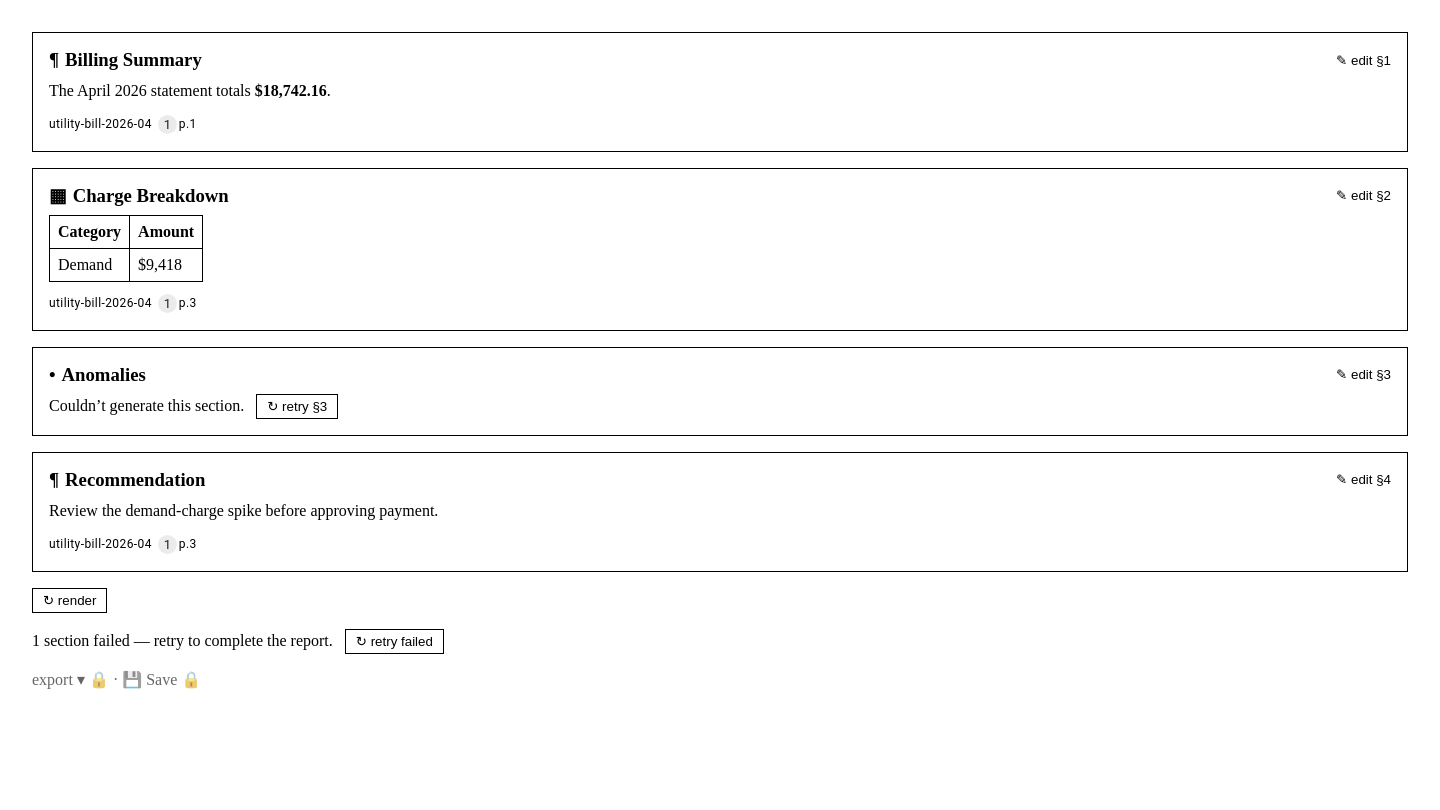
Scenario: SmartReportRender — progressive streaming (progressive-report-render B3) › gates Save/Export while a section is failed, then re-enables after a retry-all (Q2)
Expected: the element with test id "smart-report-incomplete" is shown, [32,629,444,654]
// Retry all failed → the section completes → Save/Export re-enables.
Click the button with test id "smart-report-retry-failed". click: (394, 641)
box: [345,629,444,654]
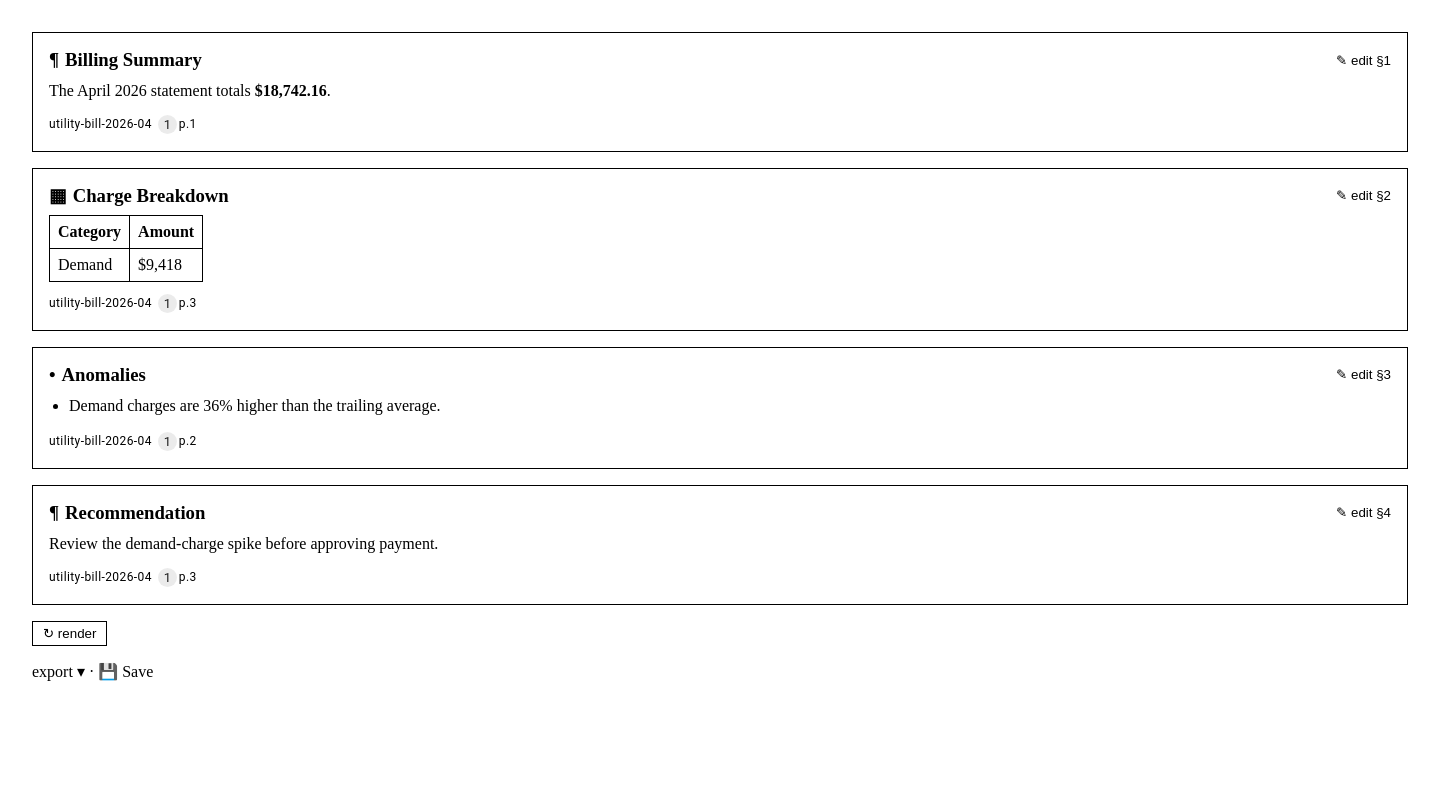
Expected: the text with test id "smart-report-export" shows "💾 Save", [32,663,153,680]
Expected: the element with test id "smart-report-incomplete" is gone
